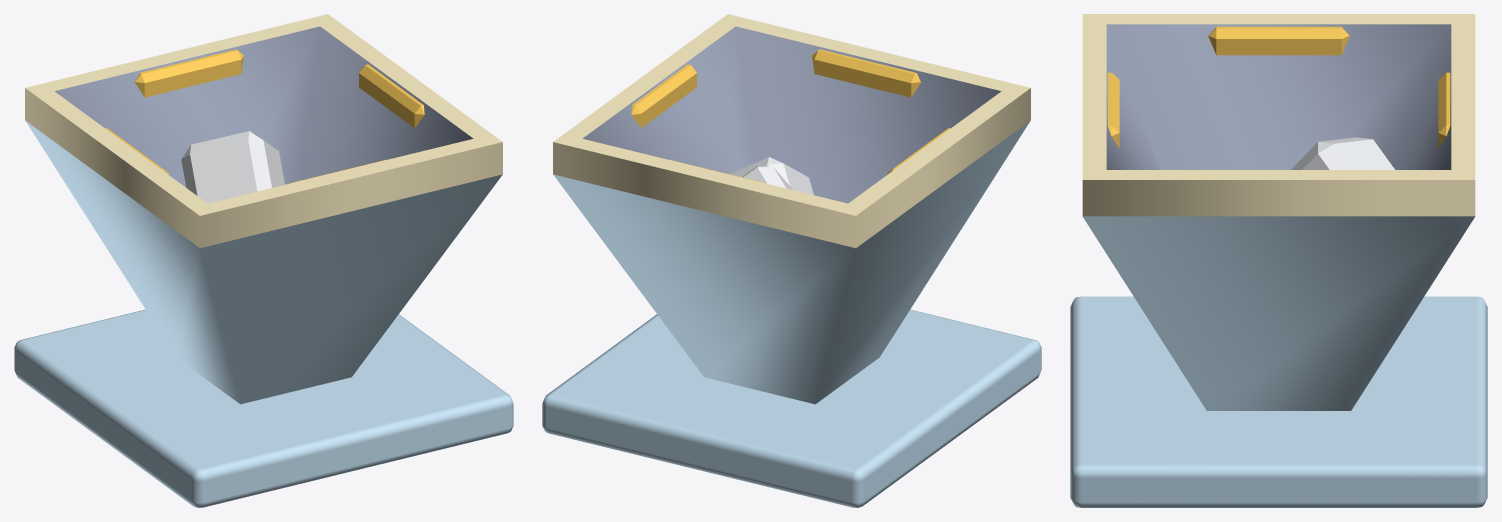
Rendered from R4X_SalvageOptimizer.glb.
3 renders of one model, left to right at view 1: azimuth 30°, elevation 25°; view 2: azimuth 150°, elevation 25°; view 3: azimuth 270°, elevation 25°, orthographic. The views are drawn at different scales.
Parts seen in each view (by area): view 1: R4X_SalvageOptimizer_Body; view 2: R4X_SalvageOptimizer_Body; view 3: R4X_SalvageOptimizer_Body.
Boxes of the visible parts, x1,y1,x2,y2 form: R4X_SalvageOptimizer_Body: (14, 14, 513, 507); R4X_SalvageOptimizer_Body: (542, 14, 1041, 507); R4X_SalvageOptimizer_Body: (1070, 14, 1487, 507).
Bounding box in the file's own units: 0.52 × 0.45 × 0.52.
